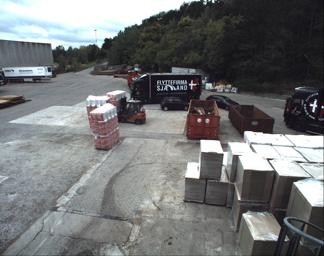rockwool_batts: (88, 102, 119, 148), (84, 93, 109, 112), (105, 87, 122, 110)
